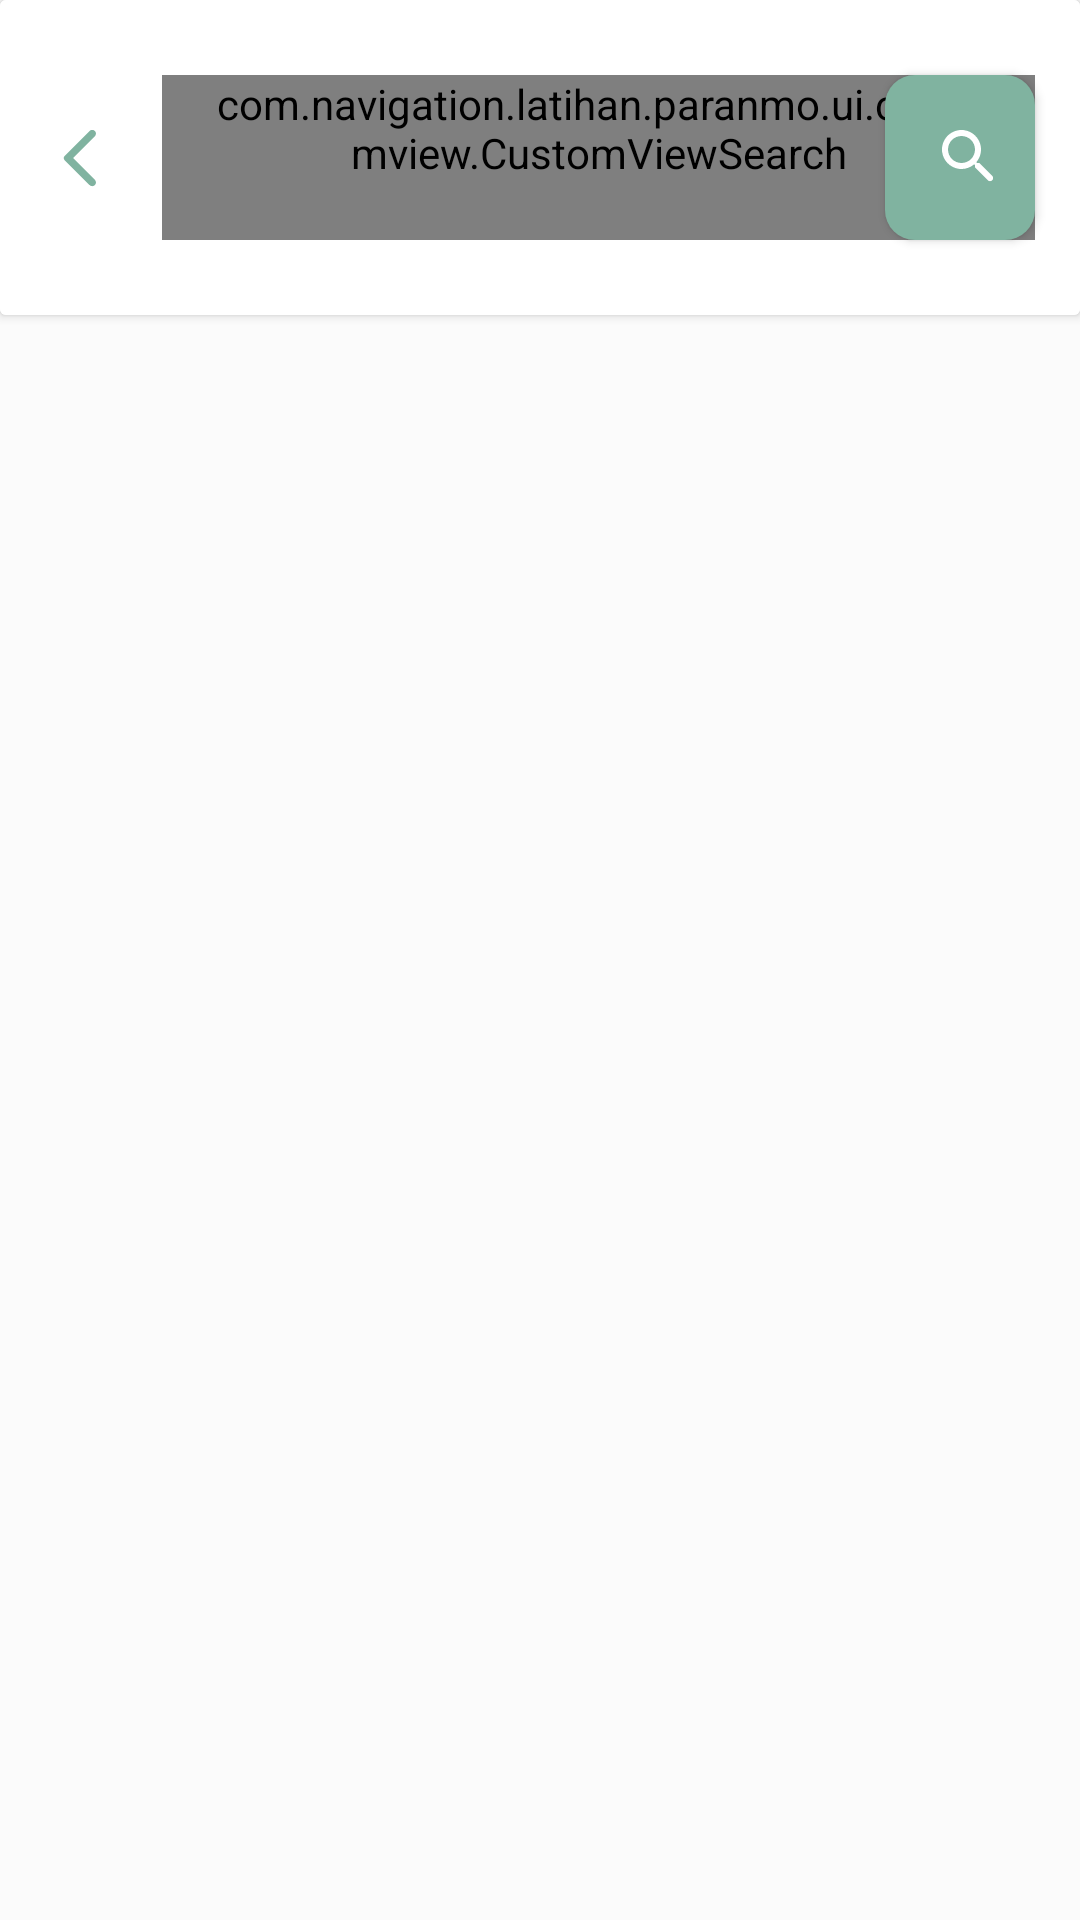

Where icons sit on this 1080px×1920px app screen, as (x1, y1, x2, y2):
arrow back: (64, 130, 96, 186)
